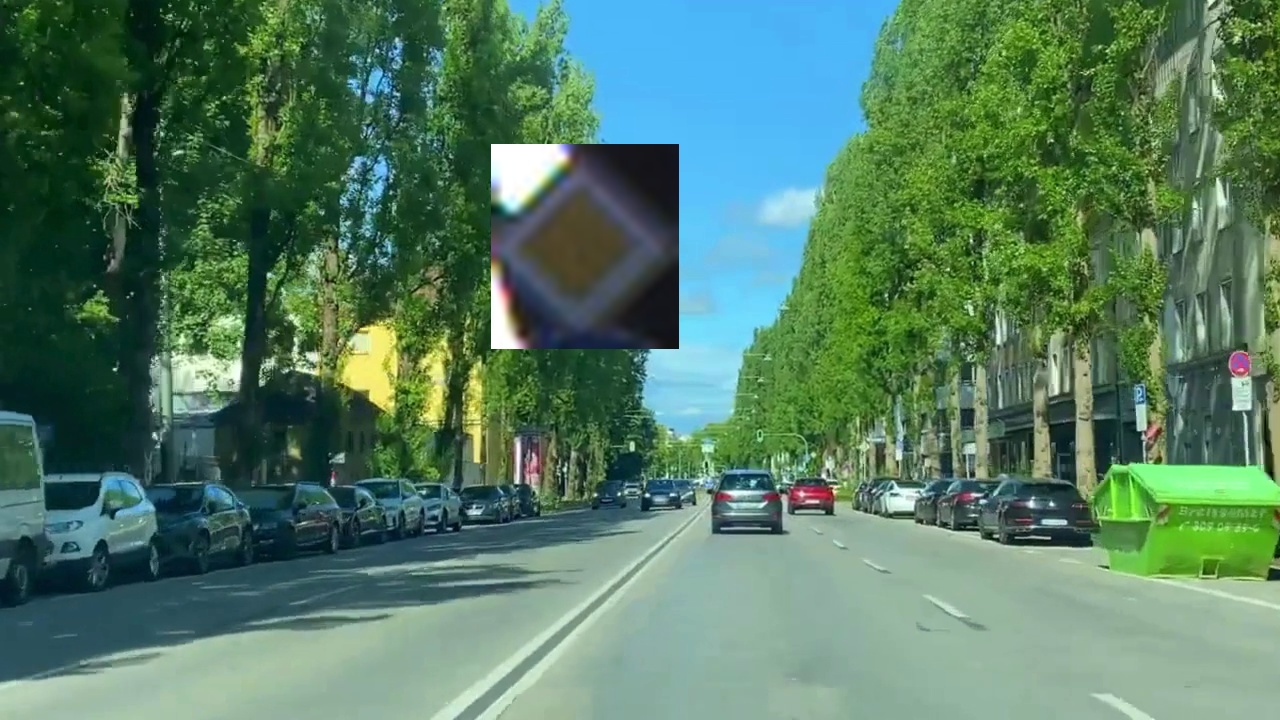Priority road: (491, 144, 679, 349)
